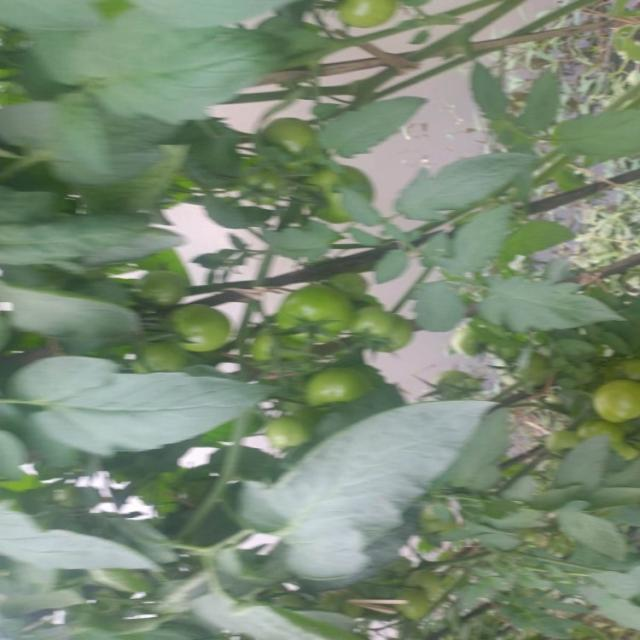tomato: (271, 285, 345, 344), (262, 111, 327, 177), (301, 357, 382, 408), (300, 165, 366, 220), (595, 377, 640, 431), (576, 421, 640, 456), (174, 307, 216, 354), (337, 1, 398, 32), (378, 311, 416, 360), (351, 300, 386, 353), (452, 323, 497, 360), (269, 416, 315, 446)
